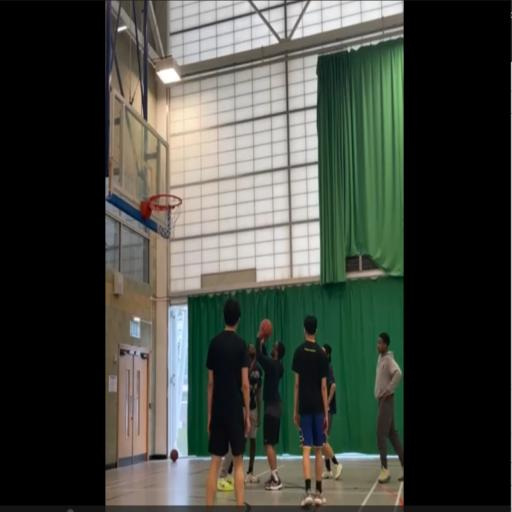hoops: (142, 188, 185, 246)
